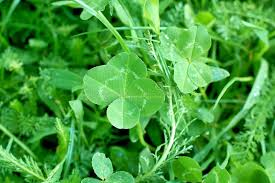4-clover: (83, 52, 165, 127), (161, 26, 217, 93)
